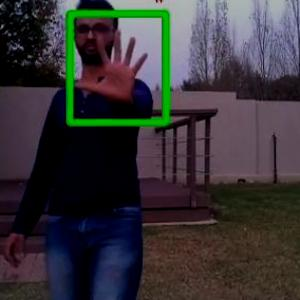follow_hand: (71, 21, 153, 111)
